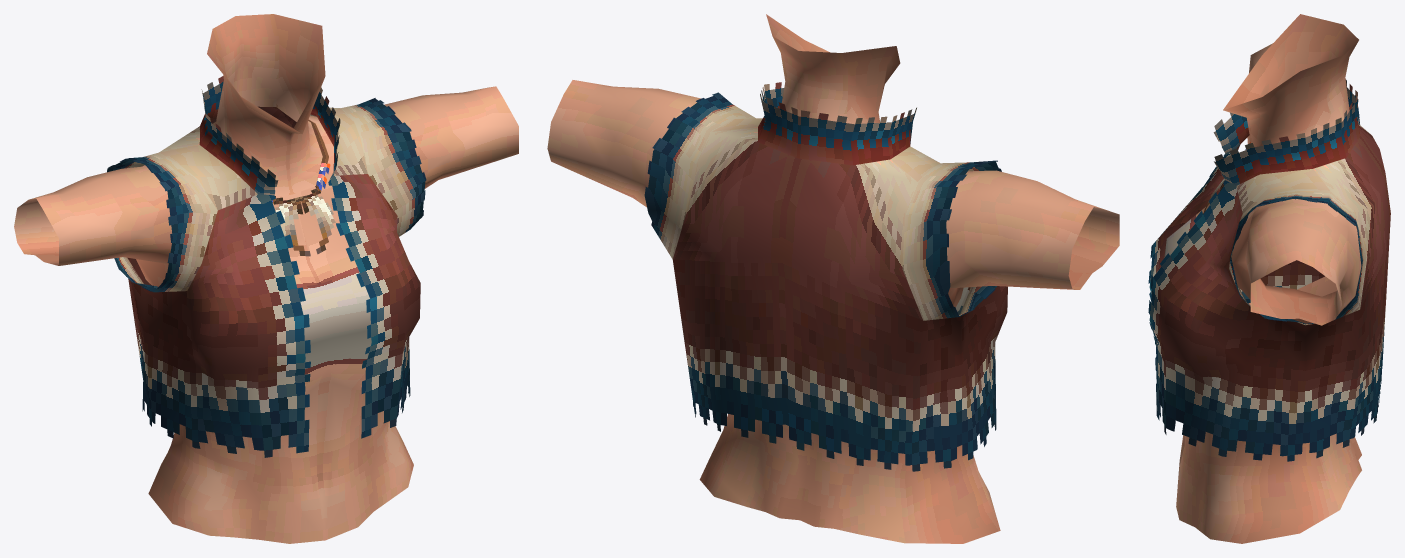
The model's file is f_plate193.obj.
3 renders of one model, left to right at view 1: azimuth 30°, elevation 25°; view 2: azimuth 150°, elevation 25°; view 3: azimuth 270°, elevation 25°, orthographic. The views are drawn at different scales.
Visible parts, largest first — view 1: mesh00, mesh02, mesh01; view 2: mesh02, mesh00; view 3: mesh02, mesh00.
Part boxes in pixels (left/top/right/bottom): mesh00: left=14, top=14, right=518, bottom=543; mesh02: left=107, top=76, right=426, bottom=457; mesh01: left=271, top=119, right=335, bottom=256; mesh02: left=644, top=82, right=1007, bottom=471; mesh00: left=547, top=14, right=1119, bottom=543; mesh02: left=1148, top=79, right=1390, bottom=461; mesh00: left=1164, top=14, right=1361, bottom=543.
Size of the model in its own units: 61.81 by 58.89 by 27.76.
Materials: 3 (3 with a texture image).
